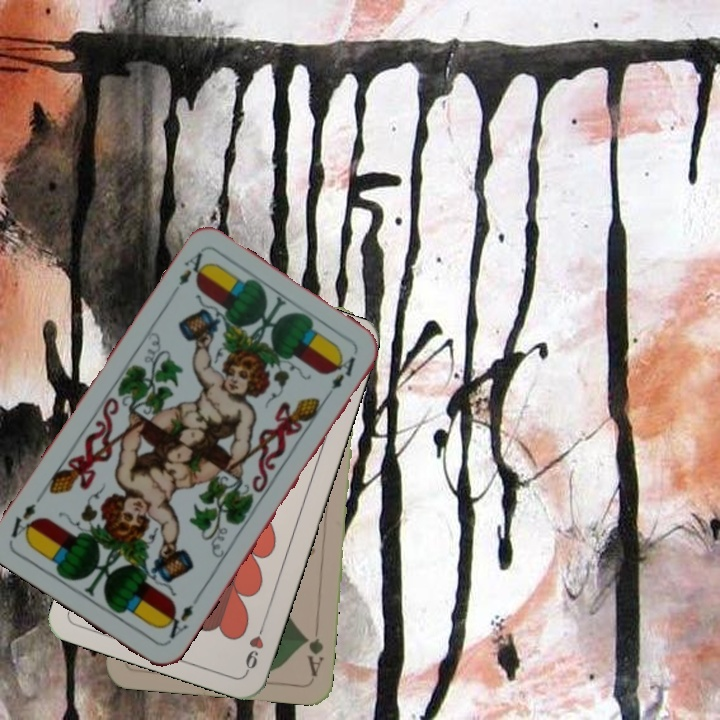EA: (167, 247, 211, 299), (159, 600, 196, 645)
GA: (301, 620, 327, 679)
H9: (241, 617, 268, 675)
